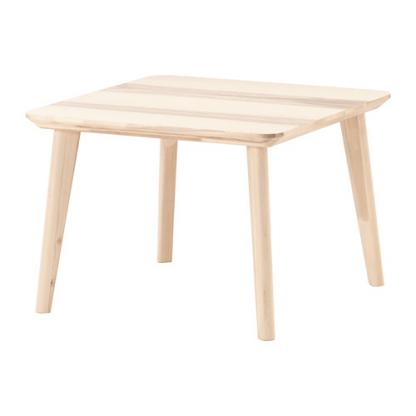Table: (19, 67, 395, 344)
